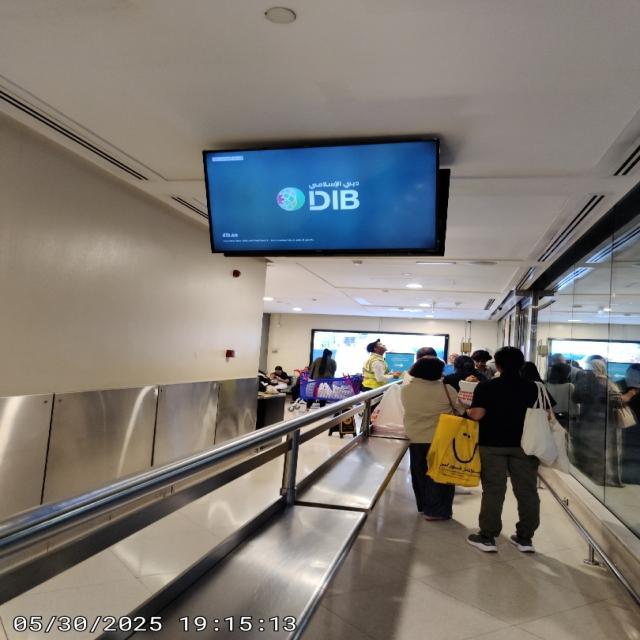digital-board: (205, 142, 436, 252)
